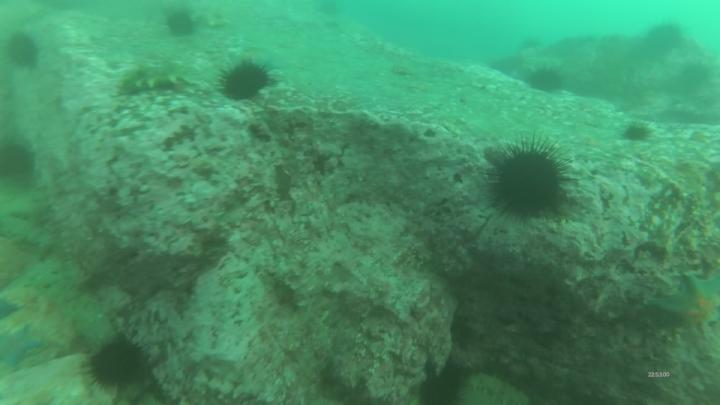echinus: (472, 375, 527, 405), (124, 68, 190, 91)
holothurian: (661, 275, 718, 337), (4, 327, 41, 367)
starfish: (493, 140, 570, 223), (92, 344, 155, 388), (225, 62, 270, 100), (9, 33, 40, 67), (534, 65, 566, 93), (168, 14, 193, 37), (625, 124, 649, 143)
